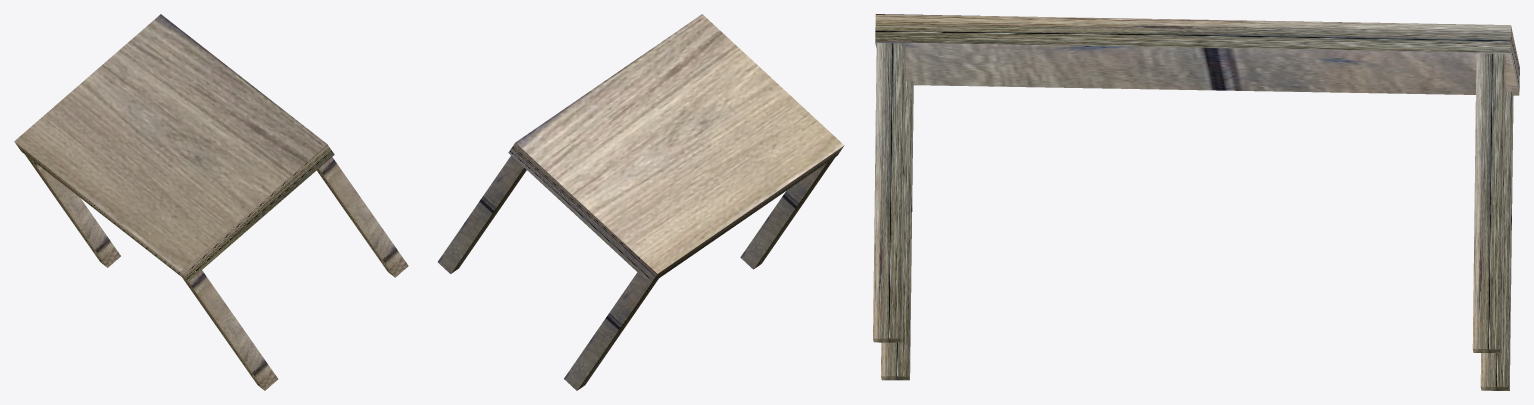
File: desk texture.fbx
3 views of the same model, side by side, from view 1: azimuth 30°, elevation 25°; view 2: azimuth 150°, elevation 25°; view 3: azimuth 270°, elevation 25° (orthographic). The views are drawn at different scales.
Parts seen in each view (by area): view 1: pCube174; view 2: pCube174; view 3: pCube174.
Part boxes in pixels (x1=…): pCube174: x1=14, y1=14, x2=408, y2=390; pCube174: x1=438, y1=14, x2=844, y2=390; pCube174: x1=873, y1=14, x2=1519, y2=390.
Size of the model in its own units: 14.93 by 14.26 by 19.81.
